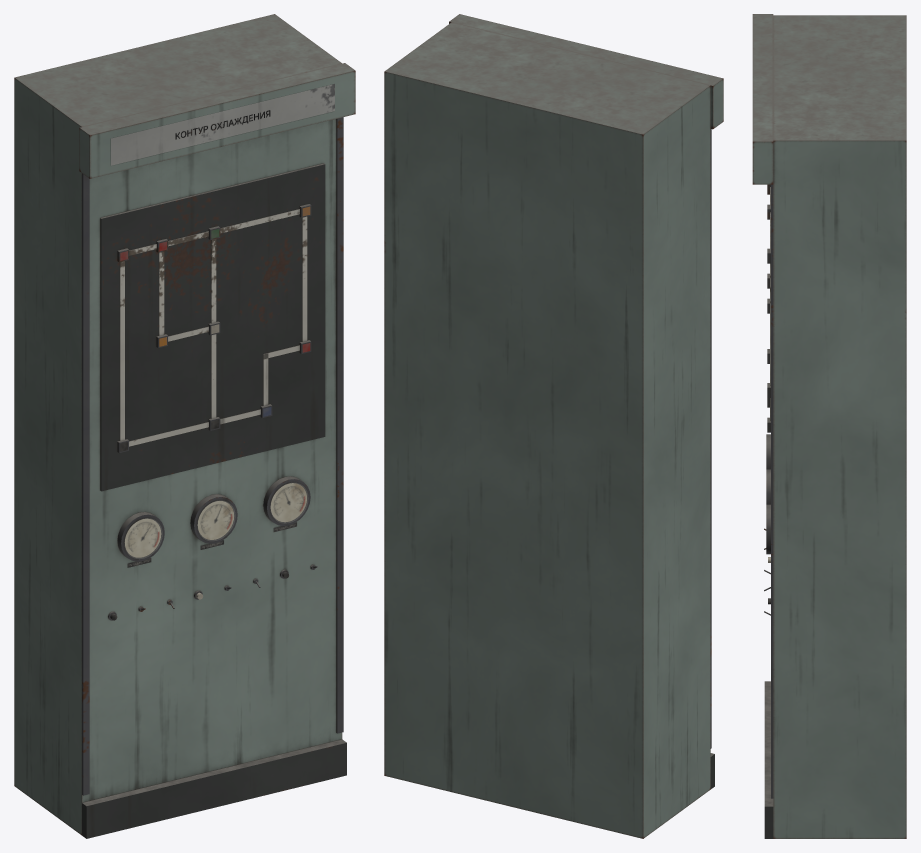
File: SM_WallPanel_PipeDiagram.fbx
3 views of the same model, side by side, from view 1: azimuth 30°, elevation 25°; view 2: azimuth 150°, elevation 25°; view 3: azimuth 270°, elevation 25° (orthographic).
Parts seen in each view (by area): view 1: SM_WallPanel_PipeDiagram; view 2: SM_WallPanel_PipeDiagram; view 3: SM_WallPanel_PipeDiagram.
Part boxes in pixels (box(x1,y1,x2,y2)): SM_WallPanel_PipeDiagram: box(14, 14, 355, 838); SM_WallPanel_PipeDiagram: box(384, 14, 723, 838); SM_WallPanel_PipeDiagram: box(752, 14, 906, 838).
Size of the model in its own units: 1.02 by 2.6 by 0.5216.
2 materials, 1 textured.
